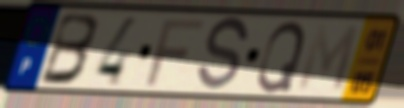4: (90, 14, 141, 89)
B: (36, 11, 102, 88)
F: (143, 18, 207, 89)
M: (294, 22, 362, 96)
Q: (254, 19, 308, 95)
S: (194, 14, 251, 95)
